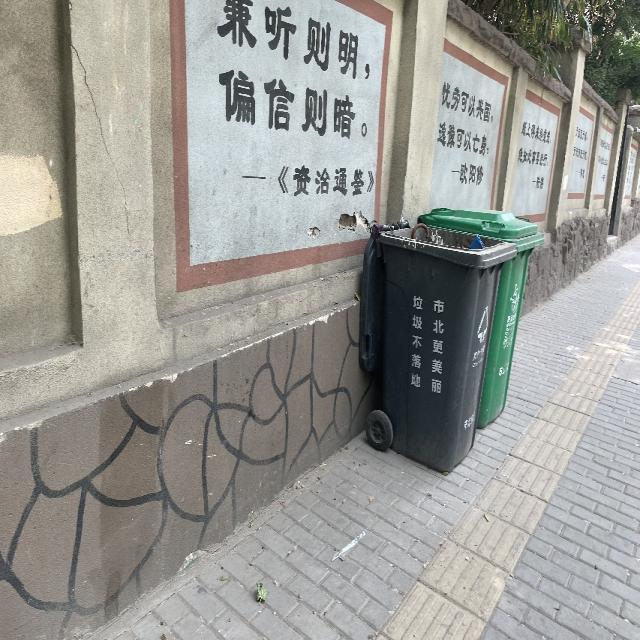garbage_bin: (357, 219, 515, 474), (416, 207, 544, 428)
